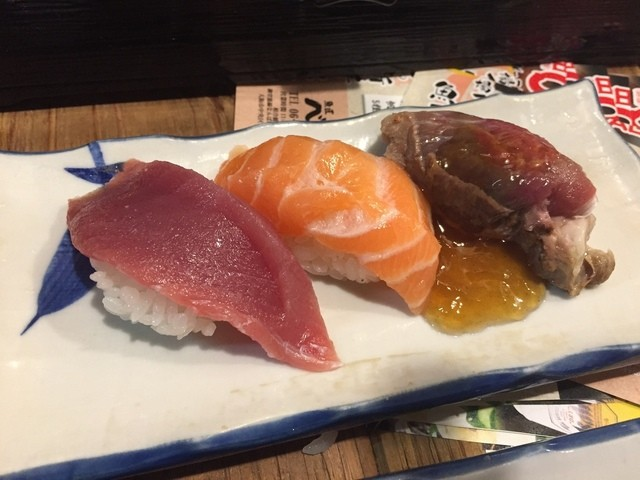salmon: (220, 136, 445, 313)
